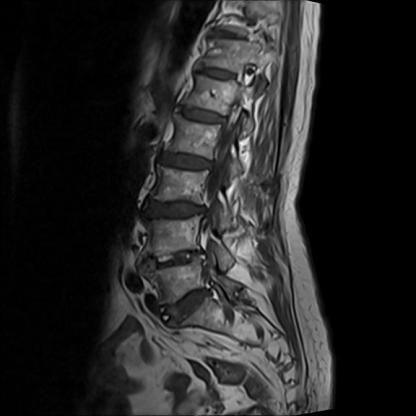Annular Tearrotation: (154, 249, 201, 270), (166, 294, 212, 315)
Disc Bulgerotation: (161, 151, 218, 174), (166, 294, 212, 316), (154, 250, 202, 271), (179, 107, 229, 124)
